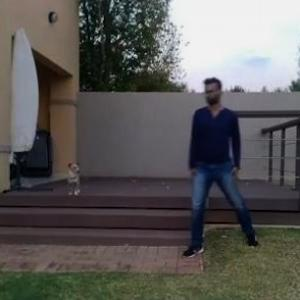follow: (195, 77, 246, 240)
